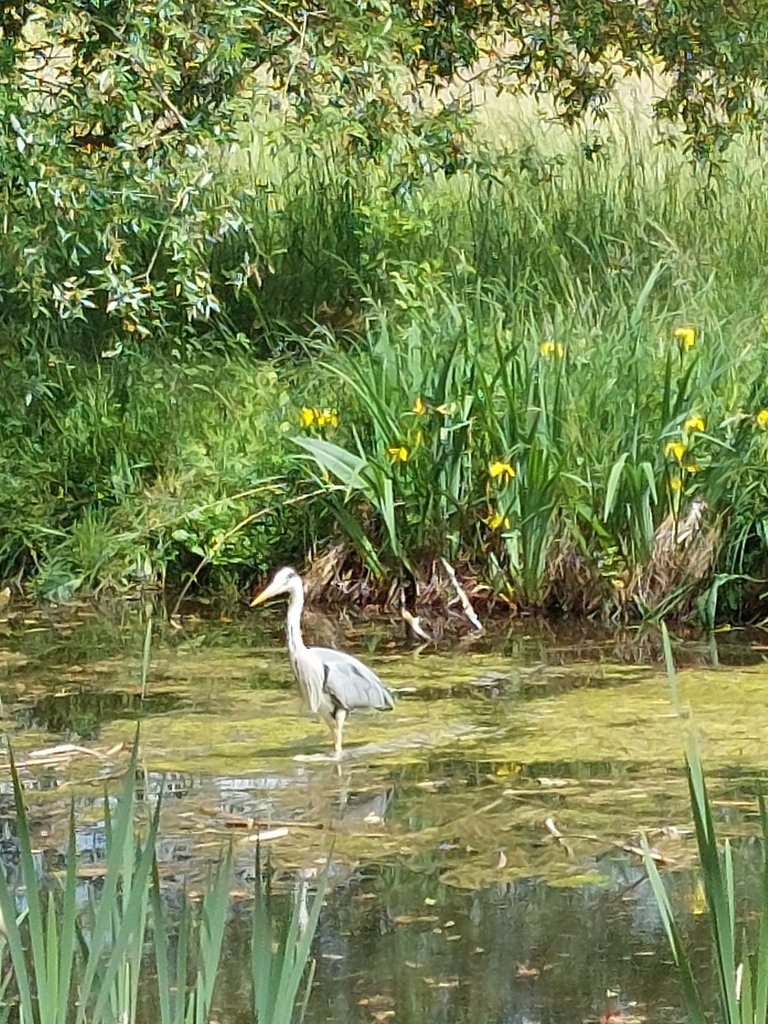heron: (247, 565, 401, 756)
